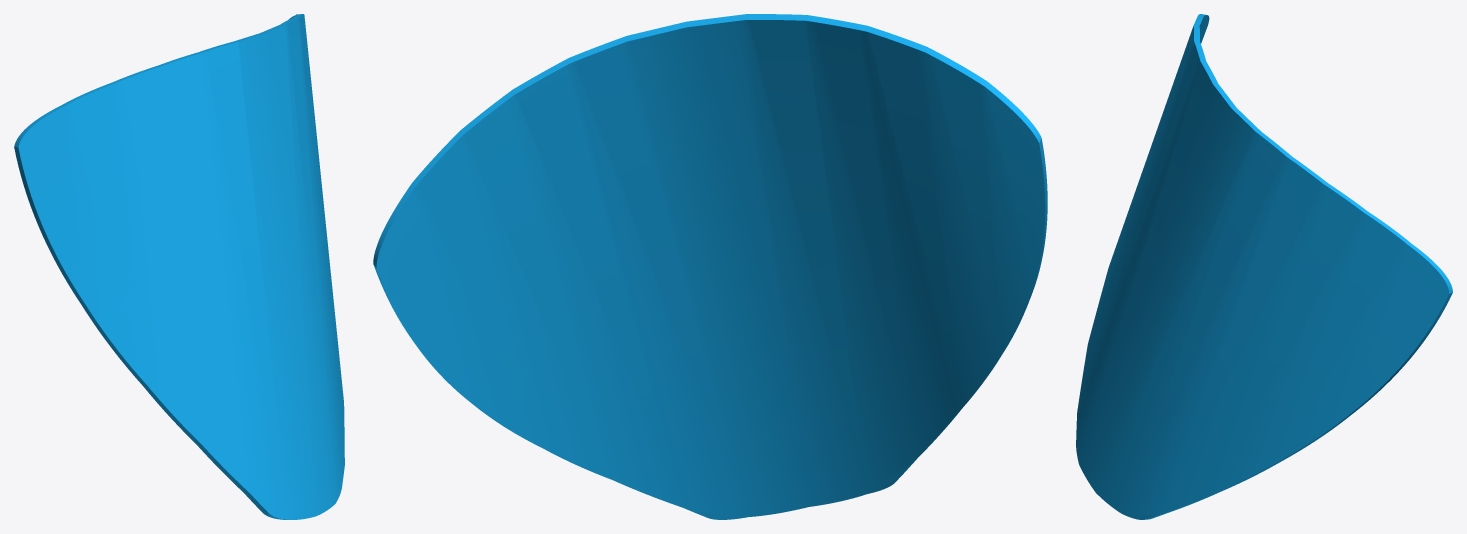
The model's file is fingernail3.glb.
The picture shows the model from 3 angles, left to right: view 1: azimuth 30°, elevation 25°; view 2: azimuth 150°, elevation 25°; view 3: azimuth 270°, elevation 25°; orthographic projection. The views are drawn at different scales.
Visible parts, largest first — view 1: Object_2; view 2: Object_2; view 3: Object_2.
Part boxes in pixels (<box>): Object_2: <box>14,14,344,519</box>; Object_2: <box>373,14,1047,519</box>; Object_2: <box>1076,14,1452,519</box>.
Bounding box in the file's own units: 5.39 × 5.81 × 4.79.
